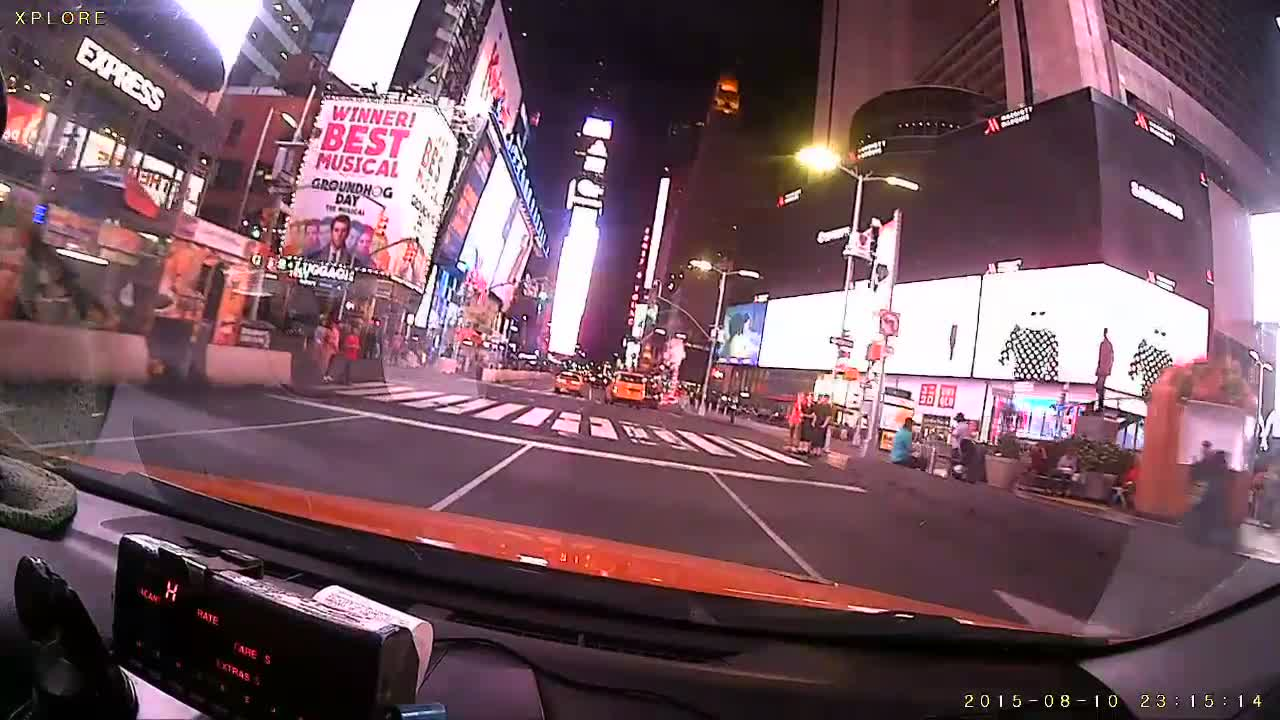car: (603, 370, 645, 409), (607, 370, 646, 409), (551, 368, 584, 395), (655, 388, 689, 410), (588, 368, 610, 389)
person: (1191, 436, 1216, 544), (892, 416, 924, 472), (1251, 451, 1277, 514), (324, 310, 343, 388), (814, 391, 833, 463), (950, 409, 969, 479), (341, 320, 359, 385), (1214, 450, 1228, 533), (1121, 454, 1144, 499), (1057, 447, 1079, 492), (997, 416, 1022, 455), (790, 391, 804, 445), (805, 391, 817, 454), (314, 313, 331, 355), (1030, 439, 1048, 471), (389, 325, 401, 367), (729, 392, 742, 423), (364, 327, 376, 357), (716, 387, 727, 412), (443, 339, 453, 363), (707, 385, 713, 409)
traffic light: (863, 342, 880, 360)
traffic sign: (817, 229, 852, 246), (877, 307, 896, 335), (842, 246, 870, 260), (828, 333, 854, 346), (877, 342, 894, 356)
